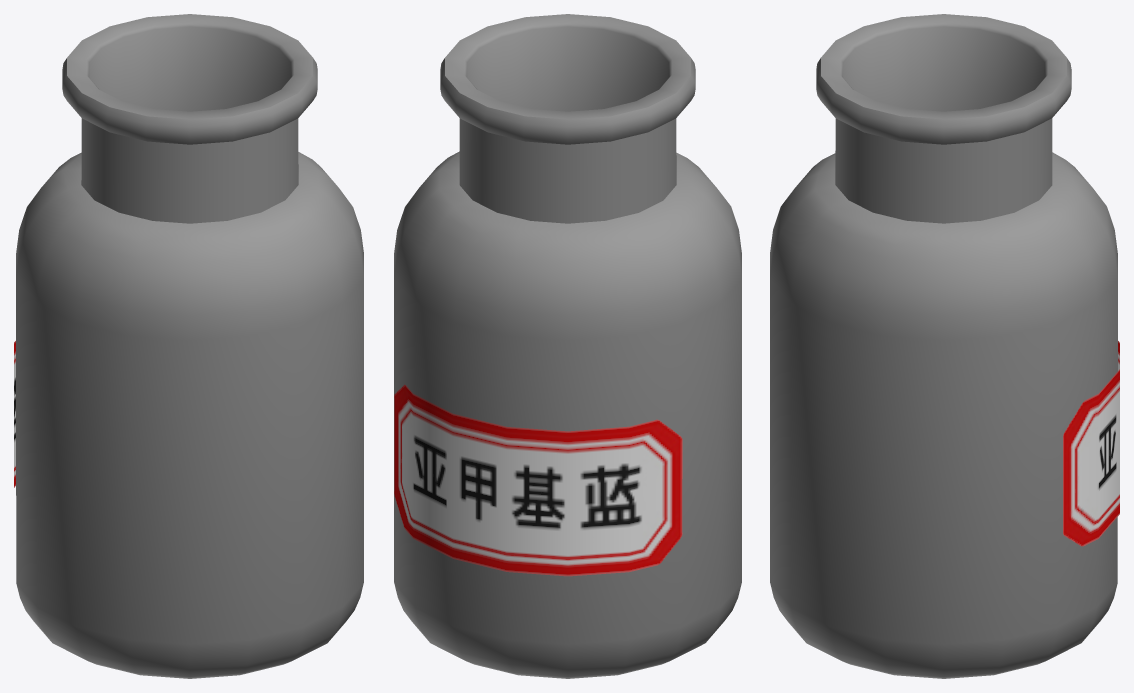
File: SM_亚甲基蓝.fbx
3 views of the same model, side by side, from view 1: azimuth 30°, elevation 25°; view 2: azimuth 150°, elevation 25°; view 3: azimuth 270°, elevation 25° (orthographic).
Parts seen in each view (by area): view 1: SM_亚甲基蓝; view 2: SM_亚甲基蓝; view 3: SM_亚甲基蓝.
Boxes of the visible parts, x1,y1,x2,y2 form: SM_亚甲基蓝: [14, 14, 363, 678]; SM_亚甲基蓝: [394, 14, 741, 678]; SM_亚甲基蓝: [770, 14, 1119, 678].
Bounding box in the file's own units: 0.0459 × 0.0789 × 0.0455.
